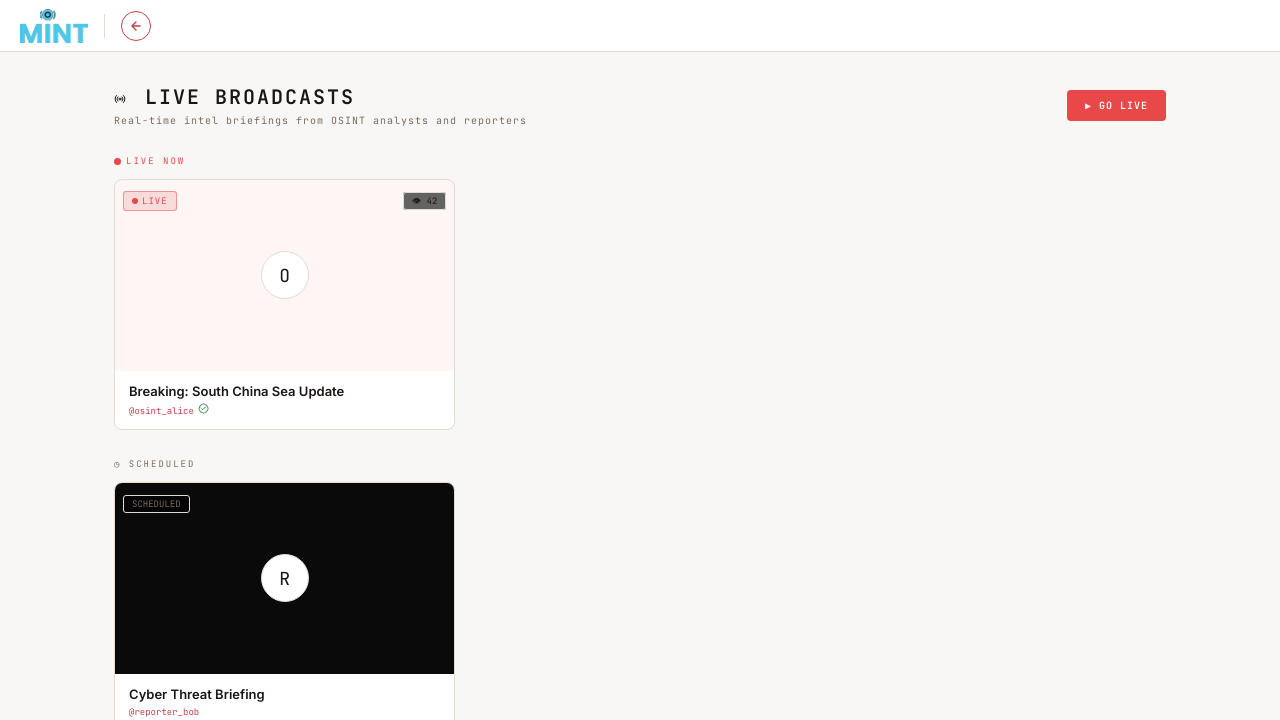
LivePage › opens create stream modal on GO LIVE click
Click the button "▶ GO LIVE" at [1116, 106], box [1067,90,1166,121]
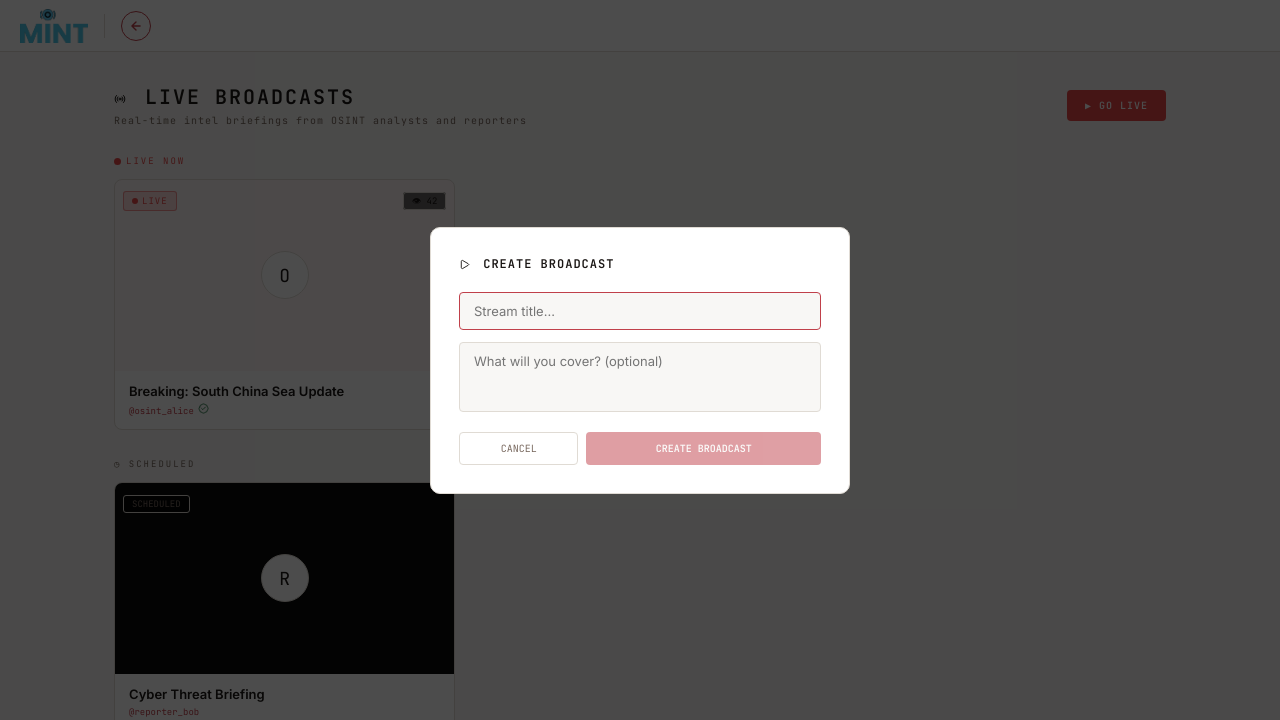
Result: the field with placeholder "Stream title..." is shown at [459,292,821,330]
